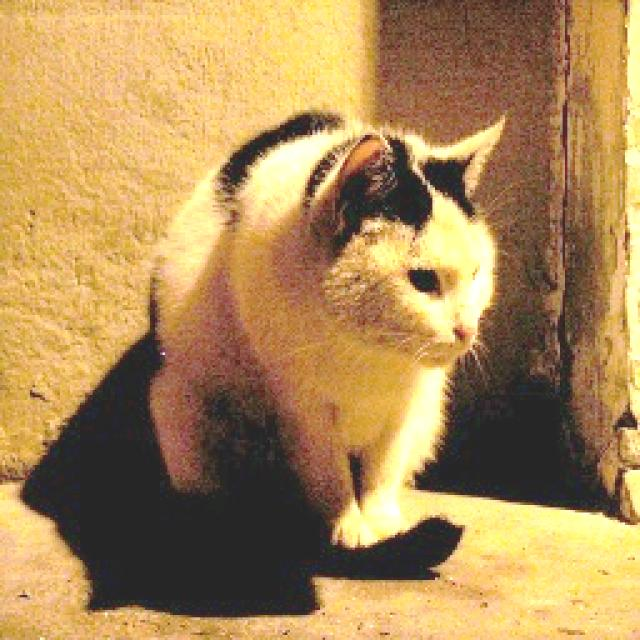cat: (128, 87, 510, 573)
